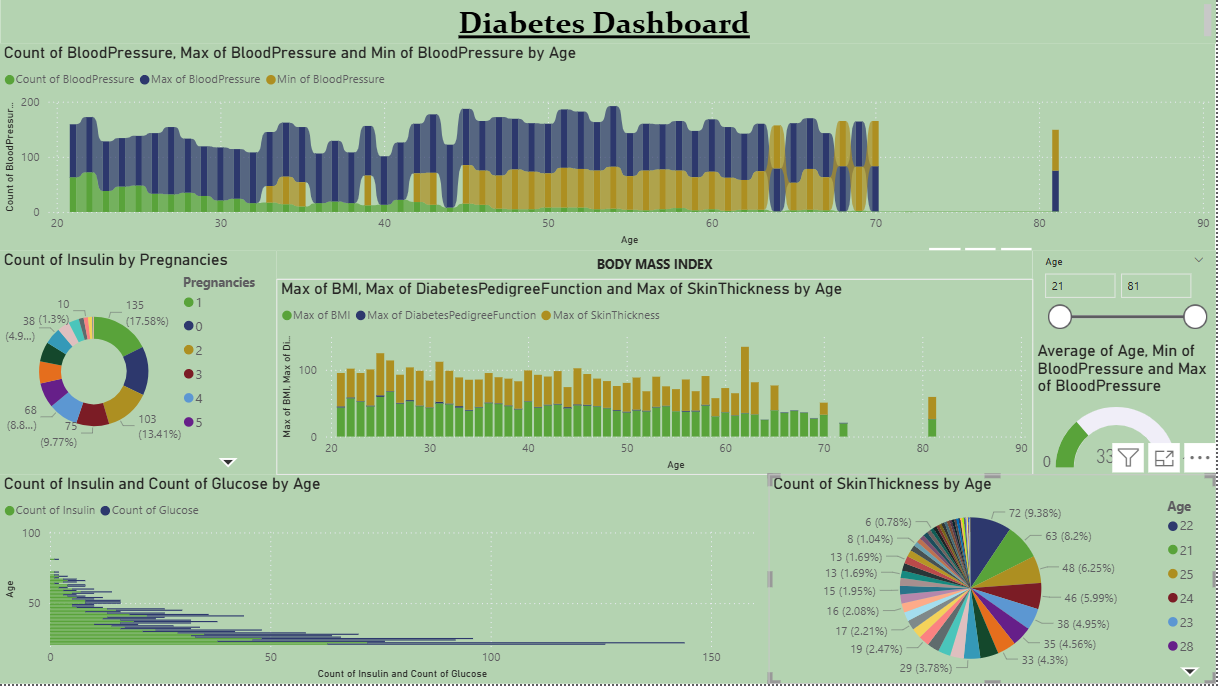

This screenshot's page, from the dashboard's own definition file:
{"tool":"powerbi","page":{"name":"Page 1","canvas":[1280,720],"ordinal":1},"visuals":[{"type":"barChart","fields":{"Category":["diabetes.Age"],"Y":["CountNonNull(diabetes.Insulin)","CountNonNull(diabetes.Glucose)"]},"box":[0,500.3,810,220.3],"z":0},{"type":"pieChart","fields":{"Category":["diabetes.Age"],"Y":["CountNonNull(diabetes.SkinThickness)"]},"box":[810,500.3,470.5,220.3],"z":1000},{"type":"ribbonChart","fields":{"Category":["diabetes.Age"],"Y":["CountNonNull(diabetes.BloodPressure)","Max(diabetes.BloodPressure)","Min(diabetes.BloodPressure)"]},"box":[0,46.7,1279.2,217.7],"z":2000},{"type":"textbox","box":[1.3,0,1279.2,46.7],"z":3000},{"type":"slicer","fields":{"Values":["diabetes.Age"]},"box":[1087.4,264.4,191.8,95.9],"z":4000},{"type":"gauge","fields":{"MinValue":["Min(diabetes.BloodPressure)"],"MaxValue":["Max(diabetes.BloodPressure)1"],"Y":["Avg(diabetes.Age)"]},"box":[1087.4,360.3,191.8,150.3],"z":5000},{"type":"donutChart","fields":{"Category":["diabetes.Pregnancies"],"Y":["CountNonNull(diabetes.Insulin)"]},"box":[0,264.4,291.6,235.9],"z":6000},{"type":"lineStackedColumnComboChart","fields":{"Y":["Max(diabetes.BMI)","Max(diabetes.DiabetesPedigreeFunction)","Max(diabetes.SkinThickness)"],"Category":["diabetes.Age"]},"box":[291.6,294.2,795.8,206.1],"z":7000},{"type":"textbox","box":[291.6,264.4,795.8,29.8],"z":8000}]}

Visuals, with their boxes in screenshot pixels (x1, y1, x2, y2), scaled from the page's 1280x720 canvas onto the 1222x689 screenshot:
barChart - diabetes.Age x CountNonNull(diabetes.Insulin): <region>0, 479, 773, 688</region>
pieChart - diabetes.Age x CountNonNull(diabetes.SkinThickness): <region>773, 479, 1221, 688</region>
ribbonChart - diabetes.Age x CountNonNull(diabetes.BloodPressure): <region>0, 45, 1221, 253</region>
textbox: <region>1, 0, 1221, 45</region>
slicer - diabetes.Age: <region>1038, 253, 1221, 345</region>
gauge - Min(diabetes.BloodPressure) x Max(diabetes.BloodPressure)1: <region>1038, 345, 1221, 489</region>
donutChart - diabetes.Pregnancies x CountNonNull(diabetes.Insulin): <region>0, 253, 278, 479</region>
lineStackedColumnComboChart - Max(diabetes.BMI) x Max(diabetes.DiabetesPedigreeFunction): <region>278, 282, 1038, 479</region>
textbox: <region>278, 253, 1038, 282</region>
